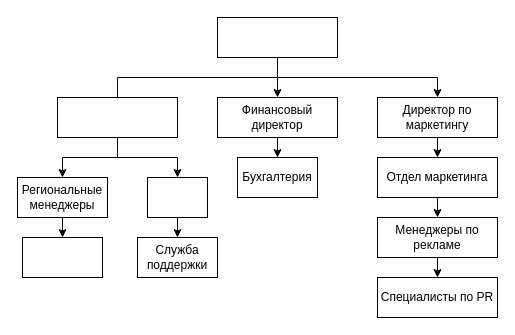
Some shapes in this 515 by 335 pixel diagram are drawn without their labels. Each missing label, with the centre of its shape:
Генеральный директор: pixel 277 37
ИТ-отдел: pixel 177 197
Магазины регионов: pixel 62 257
Операционный директор: pixel 117 117
